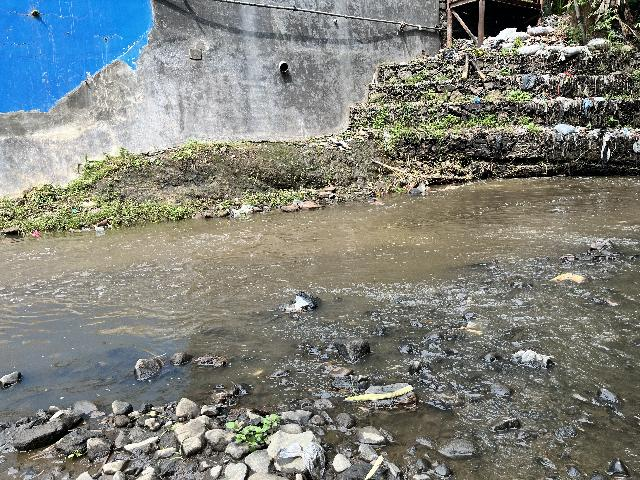Sampah Anorganik: (281, 292, 323, 311), (463, 318, 491, 333)
Sampah Organik: (332, 380, 417, 404), (552, 264, 586, 285), (252, 371, 262, 377)
